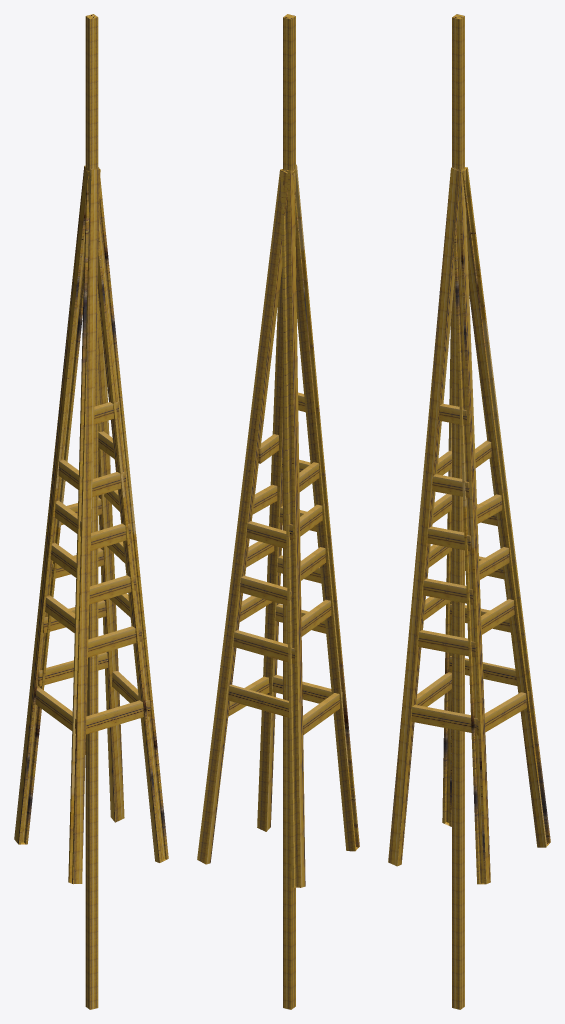
The model's file is antena.fbx.
3 views of the same model, side by side, from view 1: azimuth 30°, elevation 25°; view 2: azimuth 150°, elevation 25°; view 3: azimuth 330°, elevation 25° (orthographic).
Parts seen in each view (by area): view 1: pCube49, pCube50, pCube1, pCube47, pCube48, pCube56, pCube57, pCube58, pCube54, pCube65, pCube59, pCube53 (+7 smaller); view 2: pCube47, pCube48, pCube49, pCube1, pCube50, pCube64, pCube65, pCube63, pCube54, pCube62, pCube56, pCube53 (+8 smaller); view 3: pCube50, pCube49, pCube1, pCube48, pCube47, pCube56, pCube57, pCube55, pCube58, pCube59, pCube65, pCube54 (+5 smaller).
Boxes of the visible parts, x1,y1,x2,y2 form: pCube49: [68, 168, 100, 884]; pCube50: [85, 167, 168, 862]; pCube1: [85, 14, 98, 1009]; pCube47: [14, 165, 88, 844]; pCube48: [98, 298, 124, 822]; pCube56: [86, 700, 149, 734]; pCube57: [88, 626, 141, 657]; pCube58: [89, 575, 135, 604]; pCube54: [35, 687, 76, 733]; pCube65: [38, 652, 108, 686]; pCube59: [90, 523, 130, 550]; pCube53: [45, 595, 75, 632]; pCube47: [281, 169, 305, 887]; pCube48: [197, 169, 287, 864]; pCube49: [292, 164, 359, 851]; pCube1: [283, 14, 295, 1009]; pCube50: [257, 167, 296, 831]; pCube64: [233, 630, 294, 663]; pCube65: [228, 684, 288, 717]; pCube63: [239, 575, 291, 605]; pCube54: [303, 692, 342, 734]; pCube62: [246, 521, 286, 548]; pCube56: [272, 675, 331, 703]; pCube53: [301, 599, 331, 636]; pCube50: [454, 168, 490, 884]; pCube49: [388, 167, 464, 866]; pCube1: [452, 14, 464, 1009]; pCube48: [462, 167, 550, 847]; pCube47: [442, 167, 465, 826]; pCube56: [411, 704, 478, 733]; pCube57: [418, 630, 475, 657]; pCube55: [476, 691, 529, 735]; pCube58: [423, 578, 472, 604]; pCube59: [427, 526, 470, 551]; pCube65: [449, 656, 517, 685]; pCube54: [416, 672, 451, 706].
Bounding box in the file's own units: 13.38 × 121 × 13.01.
